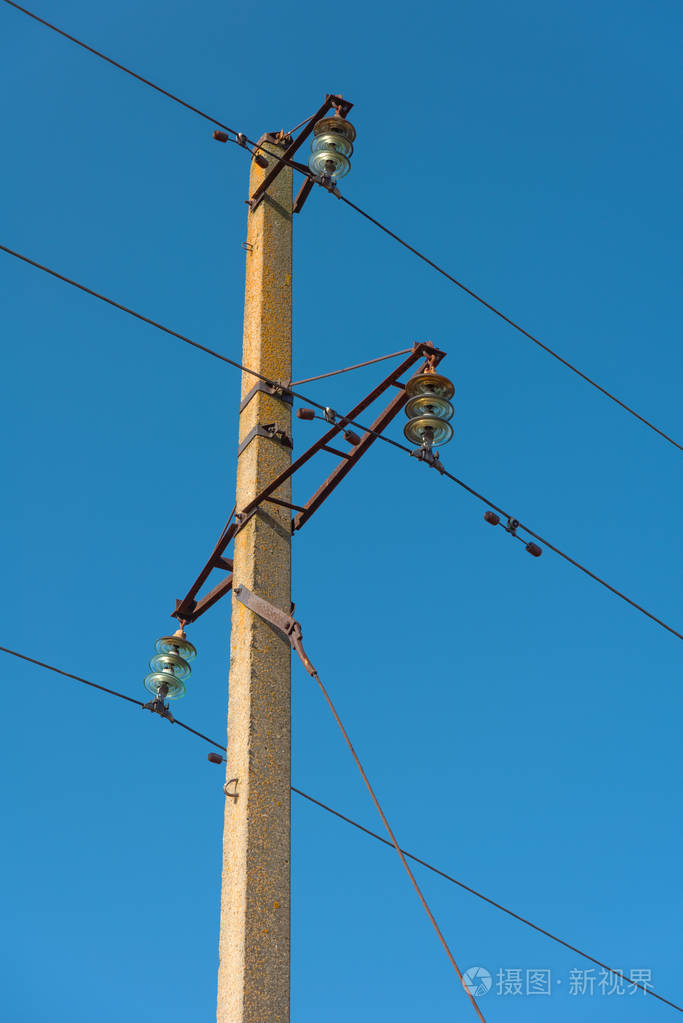insulator: (402, 370, 461, 441), (145, 635, 200, 698), (302, 120, 359, 180)
